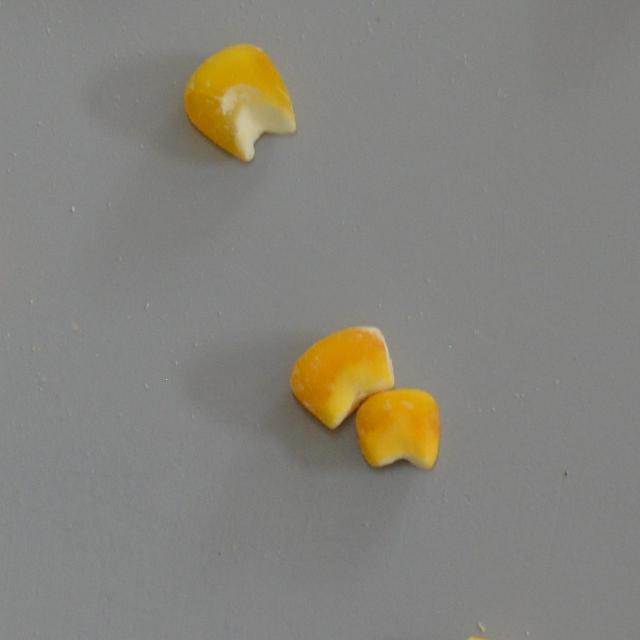no_canjicado: (182, 42, 296, 162), (356, 388, 440, 470)
pelicula: (286, 324, 396, 432)
